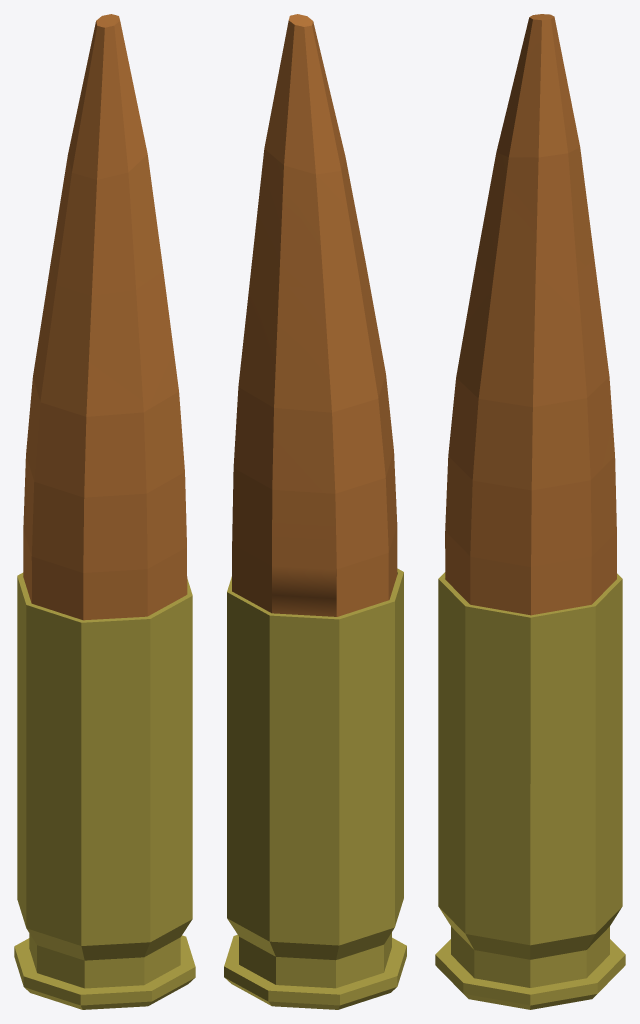
File: ak nato round.fbx
The picture shows the model from 3 angles, left to right: view 1: azimuth 30°, elevation 25°; view 2: azimuth 150°, elevation 25°; view 3: azimuth 270°, elevation 25°; orthographic projection.
Parts seen in each view (by area): view 1: bullet.001; view 2: bullet.001; view 3: bullet.001.
Part boxes in pixels (bbox=[...]): bullet.001: bbox=[14, 14, 195, 1009]; bullet.001: bbox=[224, 14, 406, 1009]; bullet.001: bbox=[435, 14, 625, 1009].
Size of the model in its own units: 94.31 by 527 by 94.31.
